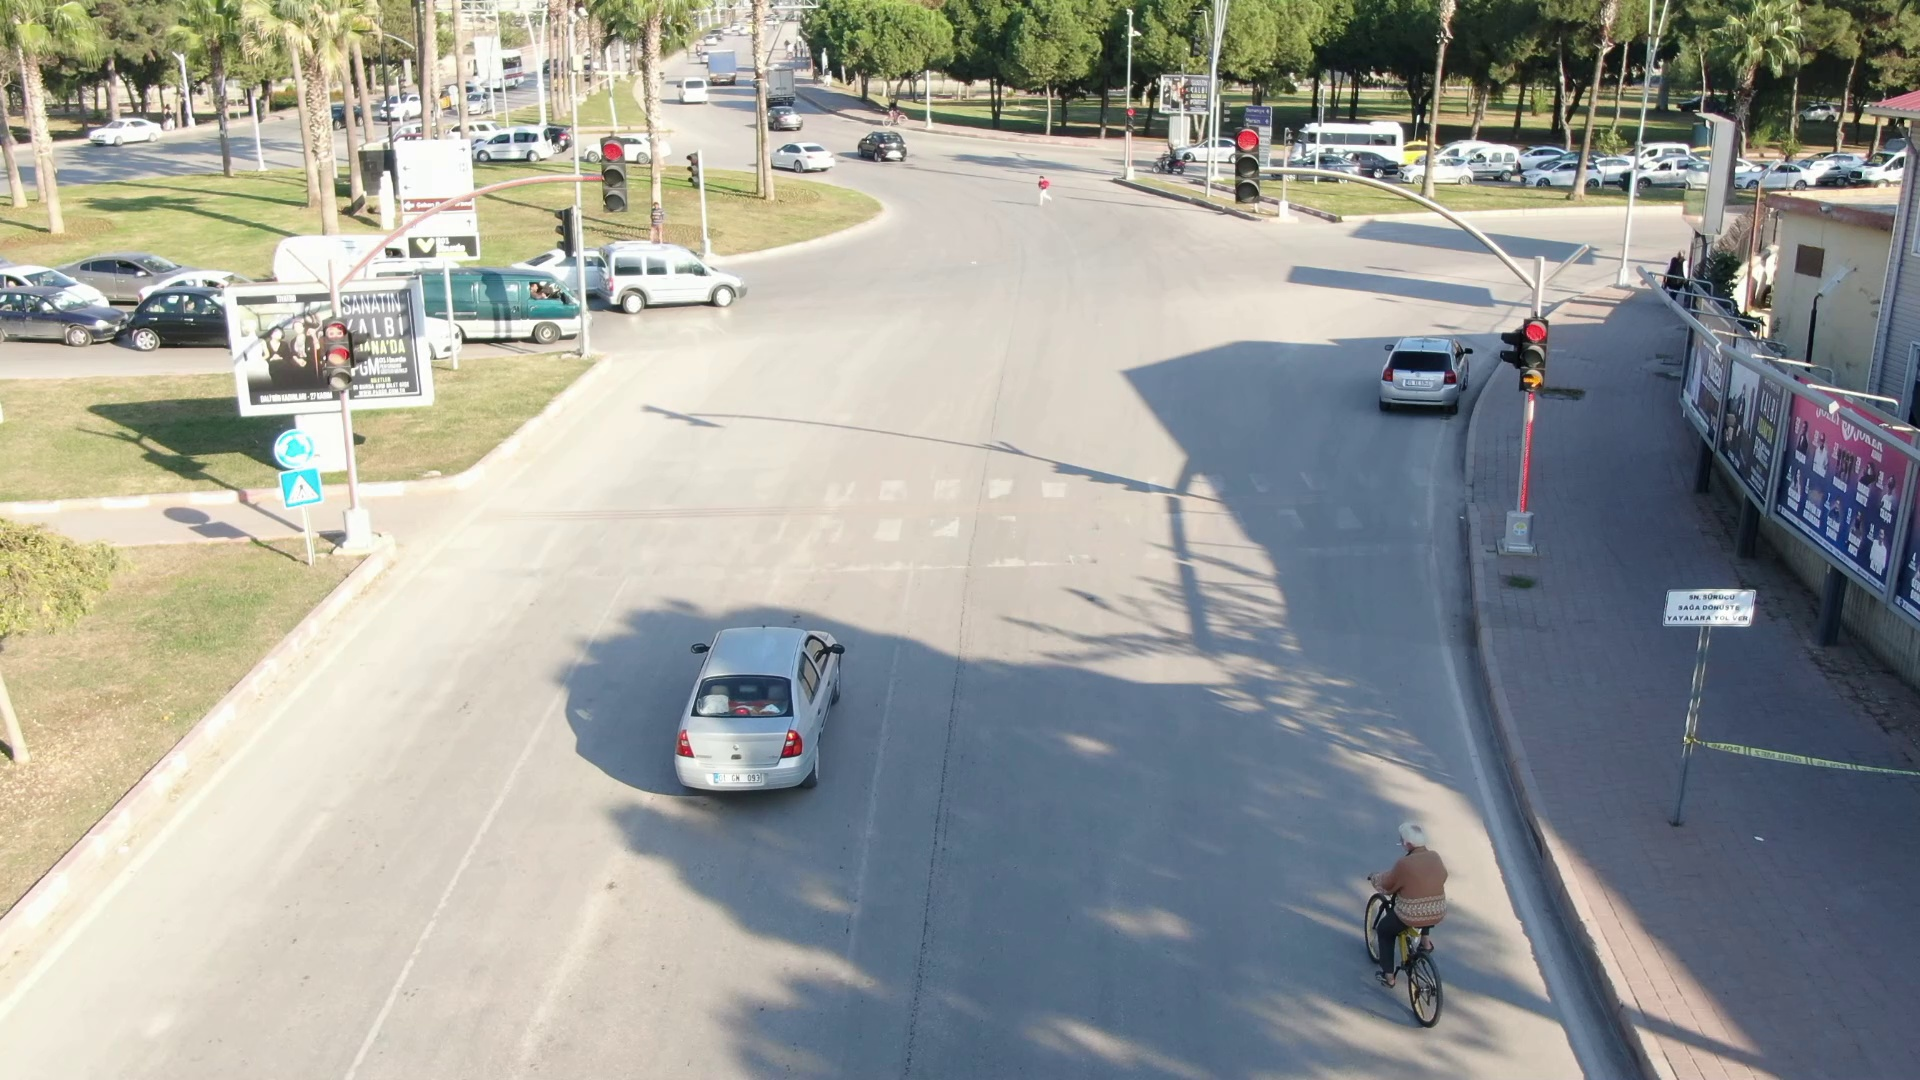car: (653, 591, 880, 843), (1345, 302, 1488, 439), (589, 229, 764, 321), (465, 116, 565, 171), (761, 131, 847, 183), (846, 122, 928, 177), (665, 69, 727, 118)
person: (1360, 795, 1465, 945)
